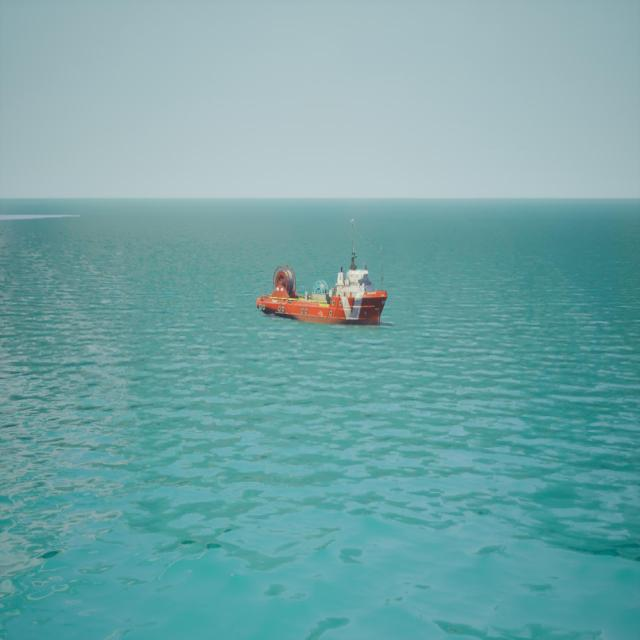tug boat: (257, 221, 389, 330)
